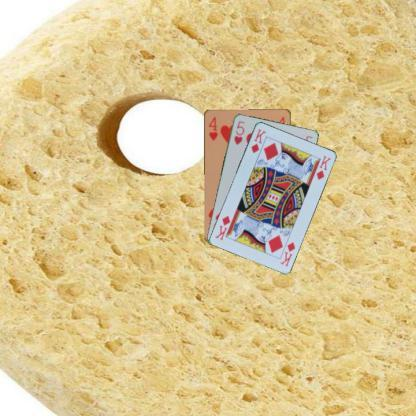4h: (206, 114, 218, 142)
5h: (232, 118, 246, 146)
Kd: (278, 239, 296, 268), (248, 126, 266, 154)
